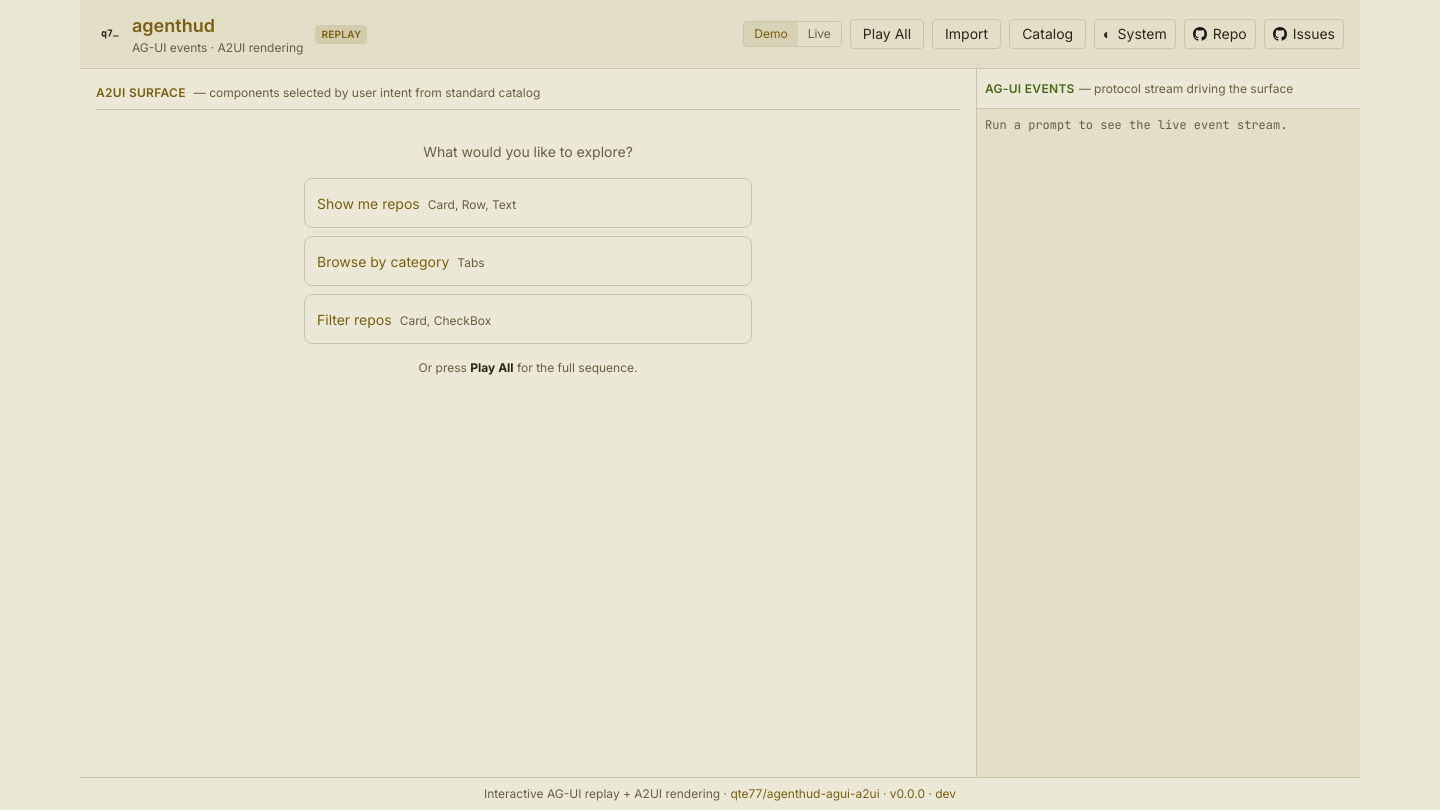
source switch continuity (#128) › does not clear the A2UI surface on a mere source switch
Click the button "Live" at (819, 34), box top-left (798, 22), bottom-right (841, 46)
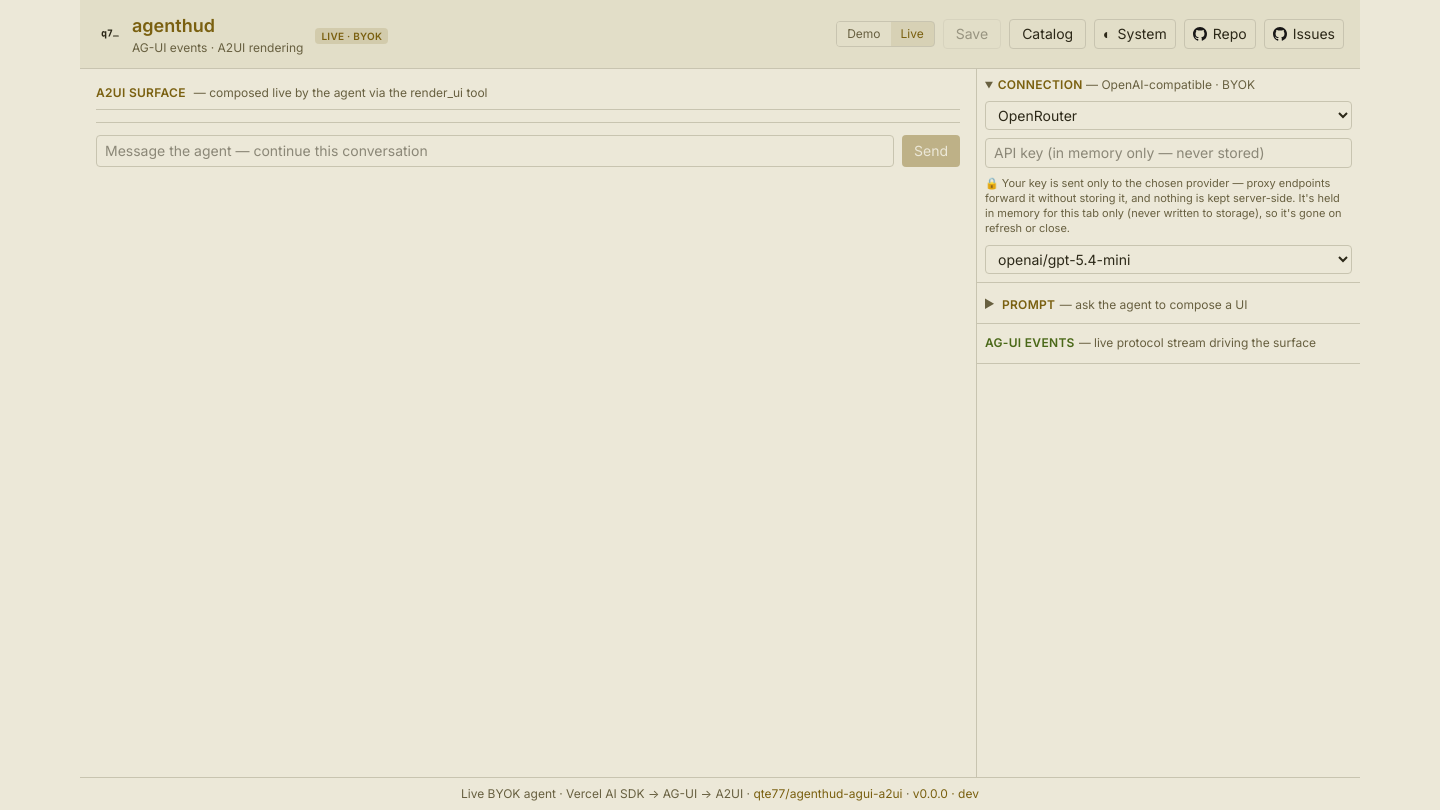
Now the text "Connection" is shown, box top-left (998, 77), bottom-right (1083, 92)
